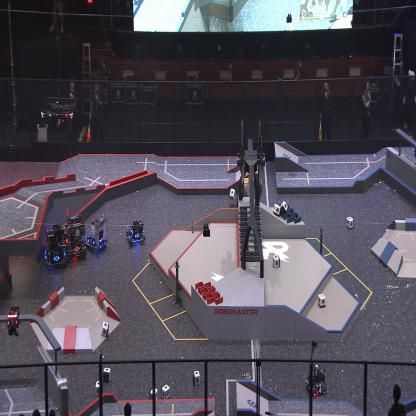car: (64, 213, 88, 260), (43, 224, 68, 269), (84, 214, 109, 252), (233, 174, 258, 212), (305, 364, 327, 398), (125, 218, 145, 247)
